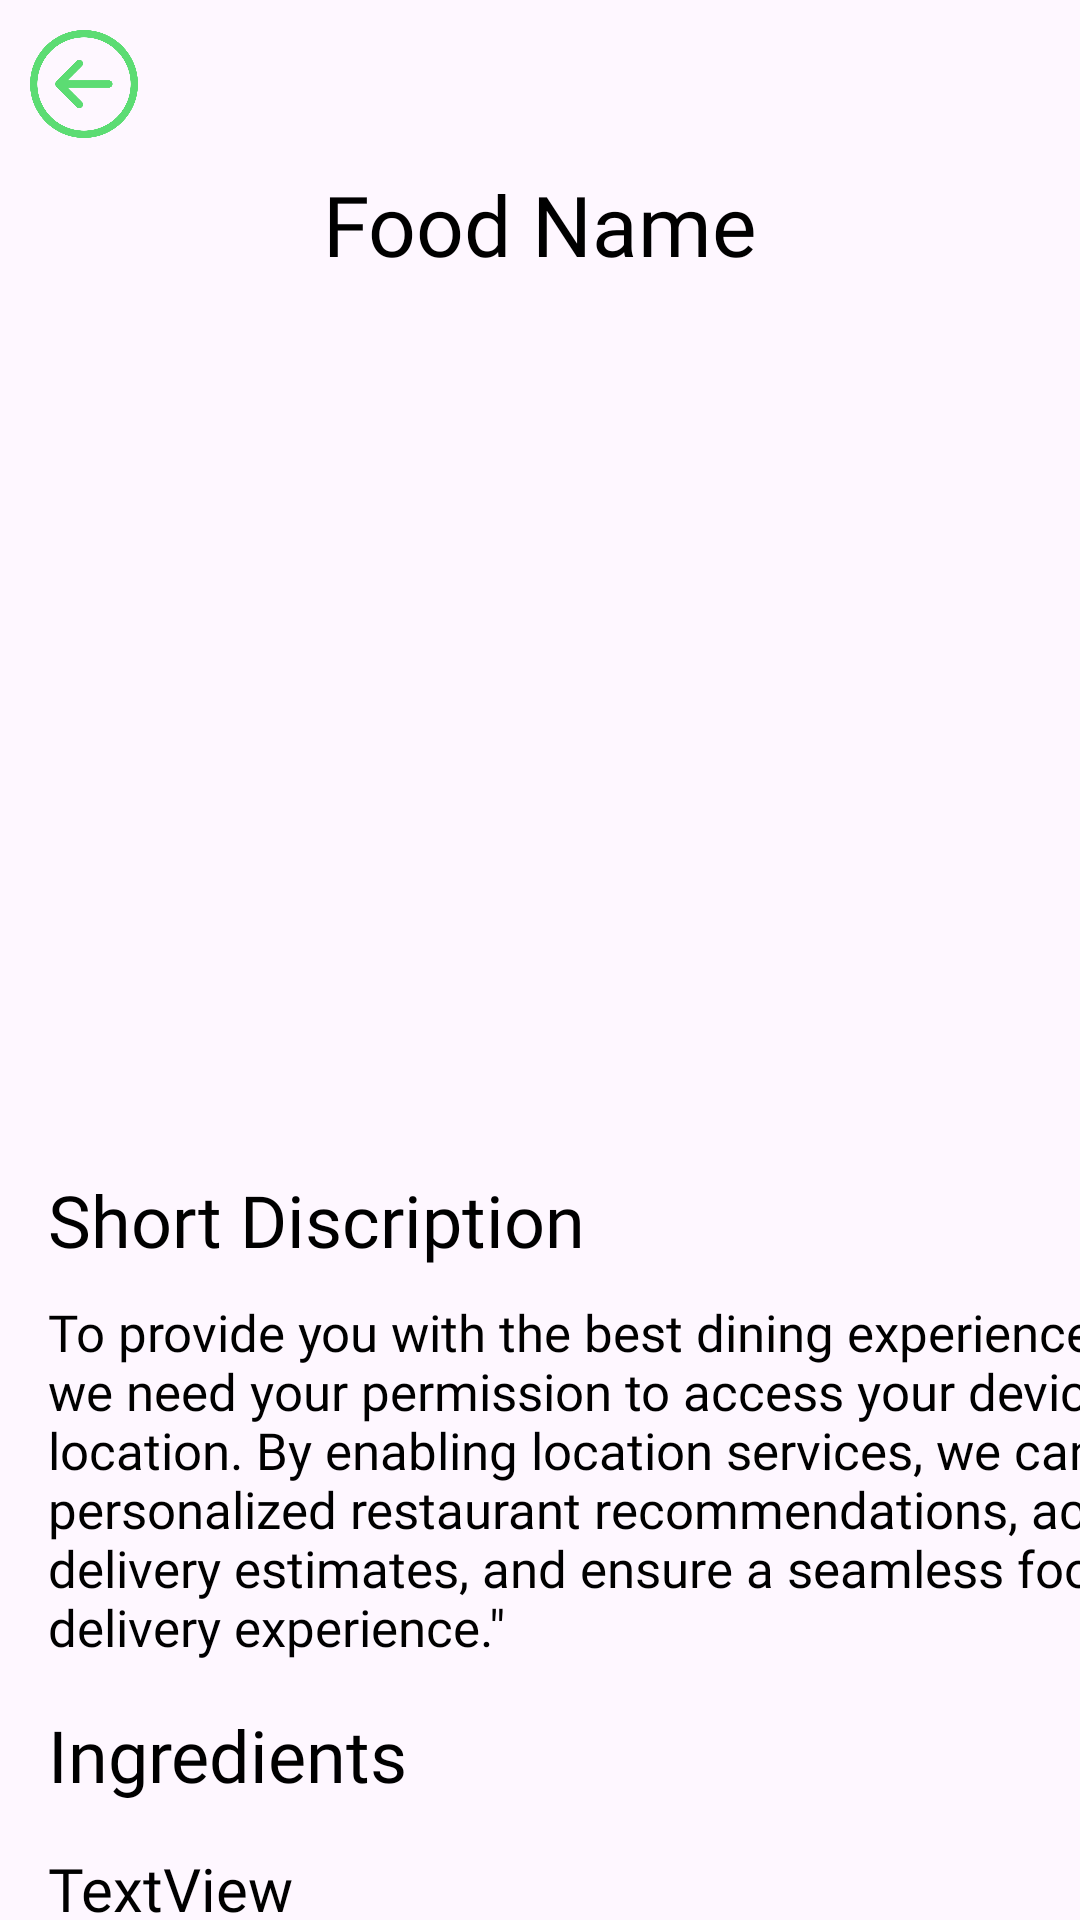

Icon click points for this 1080 x 1920 phone screenshot, format [x,y]:
backbutton: [84,84]
